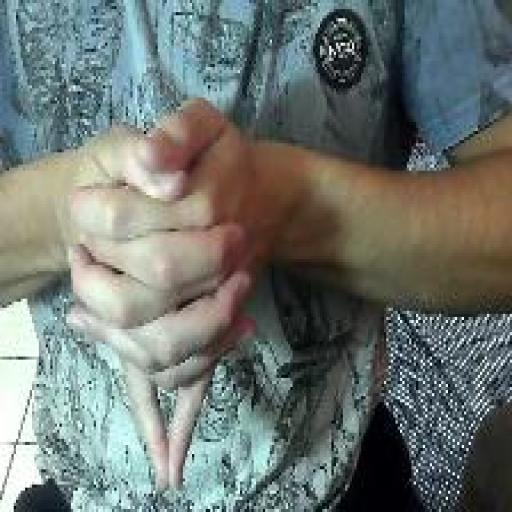Tatsu -dragon-: (63, 90, 259, 501)
